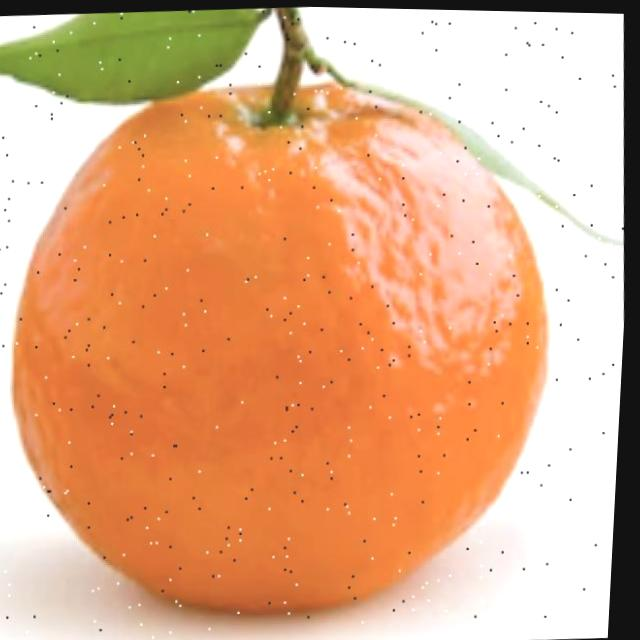Orange: (0, 60, 577, 633)
